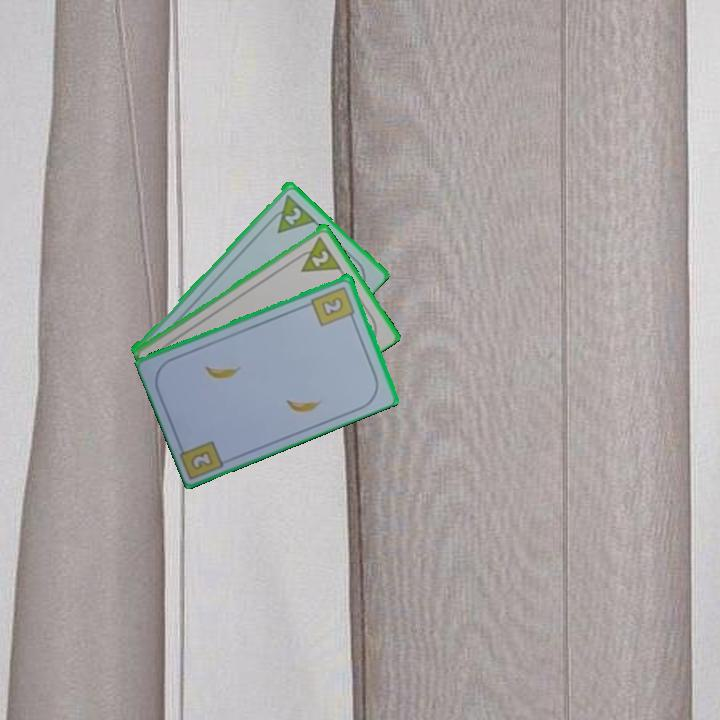2b: (308, 282, 358, 329), (189, 449, 214, 471)
2p: (291, 232, 343, 275), (281, 203, 304, 228)
